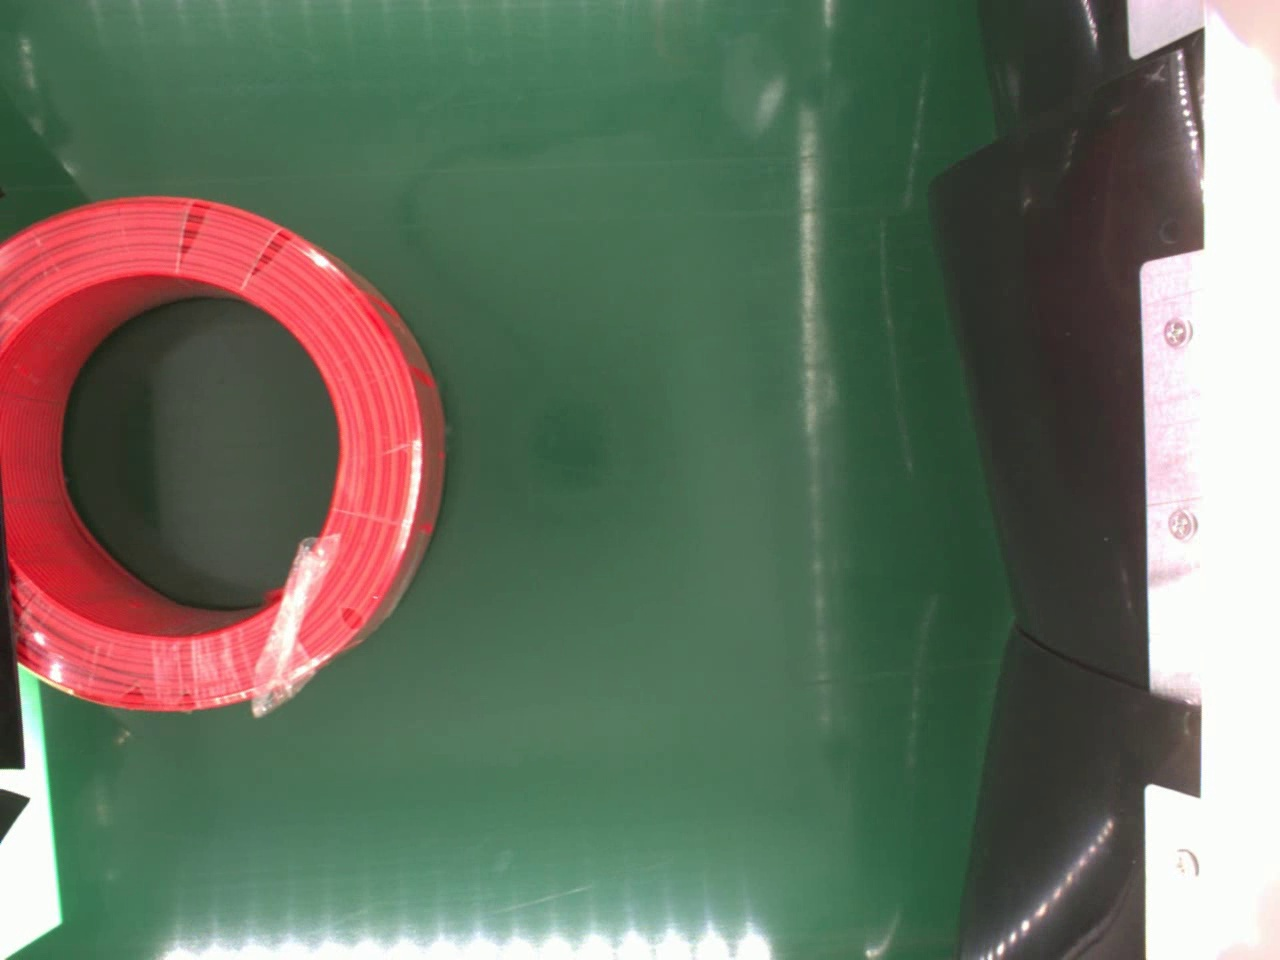red: (0, 194, 447, 711)
